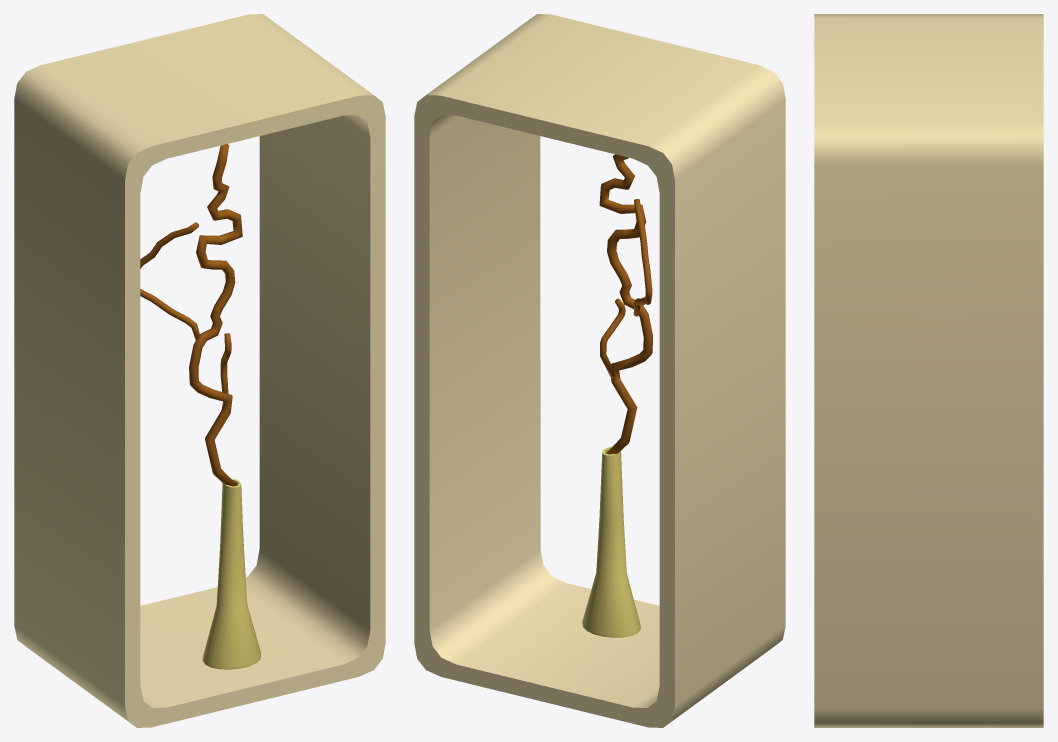
File: Modular_Bookshelf_part_1.FBX
3 renders of one model, left to right at view 1: azimuth 30°, elevation 25°; view 2: azimuth 150°, elevation 25°; view 3: azimuth 270°, elevation 25°, orthographic. The views are drawn at different scales.
Visible parts, largest first — view 1: Modular_Bookshelf_part_1; view 2: Modular_Bookshelf_part_1; view 3: Modular_Bookshelf_part_1.
Boxes of the visible parts, x1,y1,x2,y2 form: Modular_Bookshelf_part_1: (14, 14, 385, 727); Modular_Bookshelf_part_1: (414, 14, 785, 727); Modular_Bookshelf_part_1: (814, 14, 1043, 727).
Size of the model in its own units: 31.02 by 66.06 by 22.84.
Materials: 1 (1 with a texture image).
